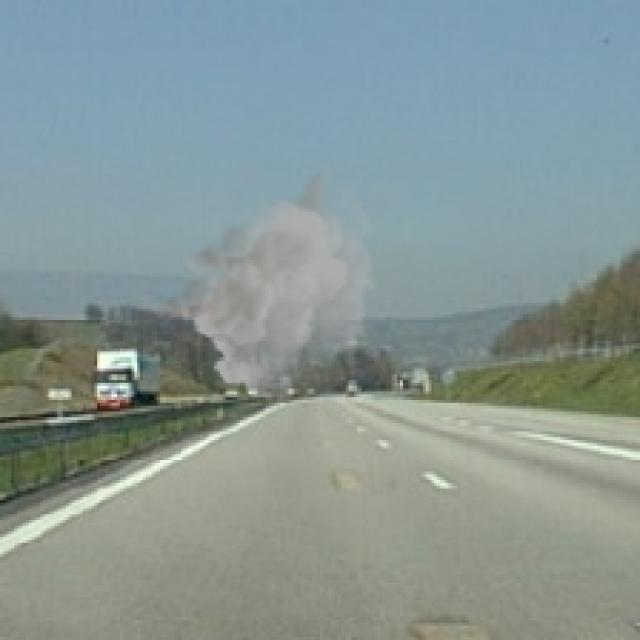Smoke: (148, 168, 380, 398)
